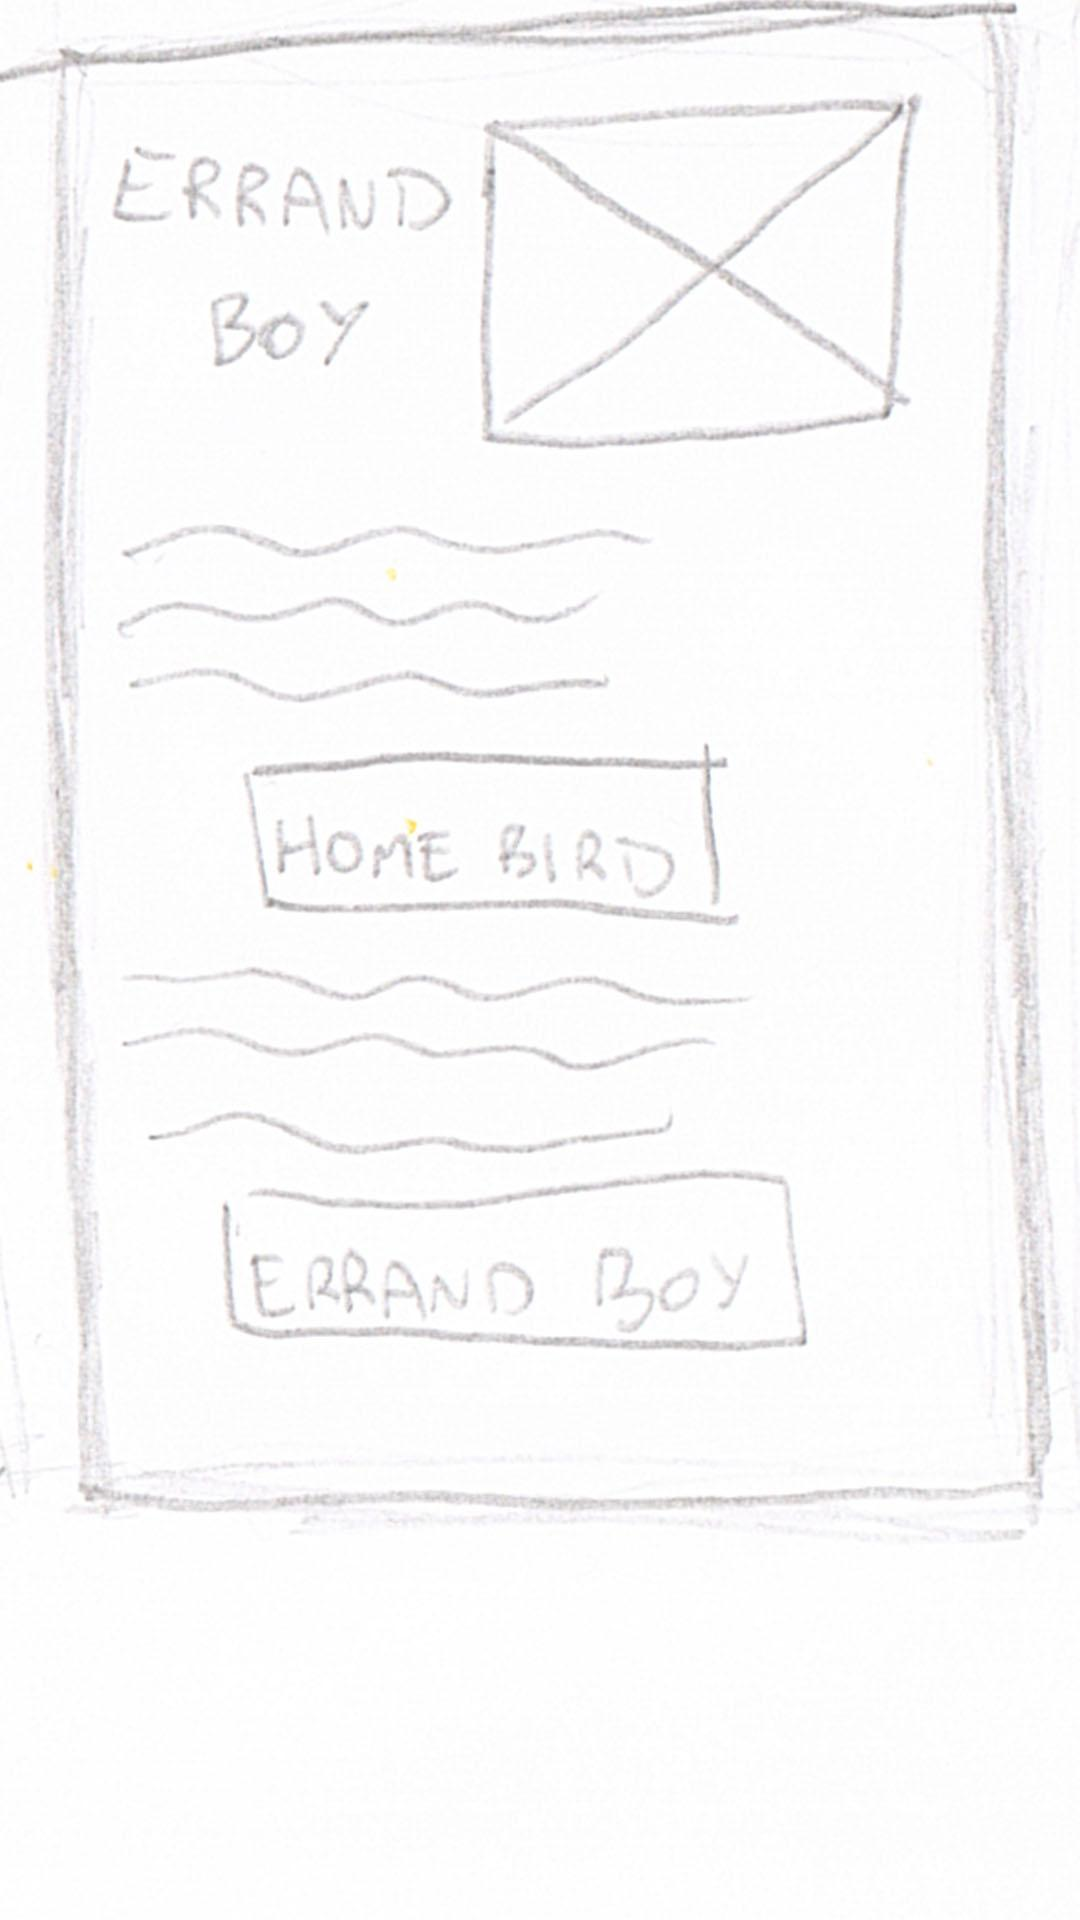Button: (223, 1178, 810, 1357), (248, 752, 727, 926)
Image: (489, 109, 907, 440)
Label: (127, 963, 744, 1158), (117, 514, 650, 708), (108, 142, 460, 376)
Screen: (66, 16, 1034, 1513)
